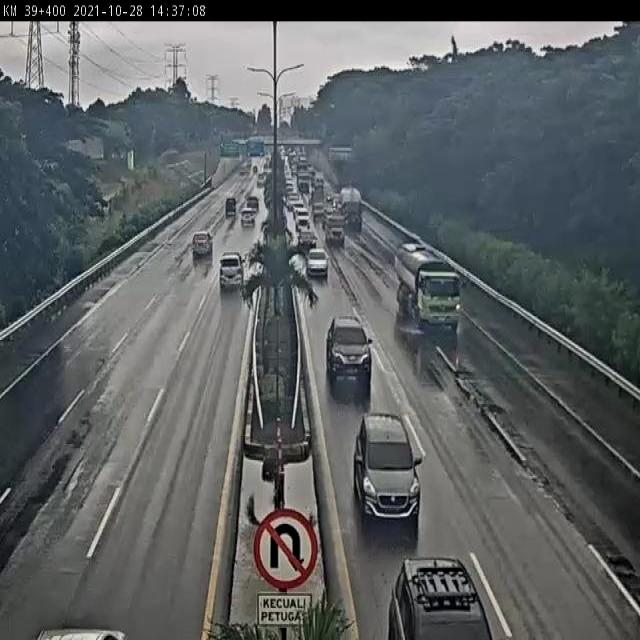Car: (385, 554, 495, 638), (352, 413, 424, 525), (325, 315, 373, 384), (219, 251, 245, 289), (306, 248, 329, 278), (192, 232, 213, 258), (297, 226, 316, 250), (293, 207, 312, 229), (240, 208, 256, 227), (246, 195, 258, 212)
Truck: (393, 242, 468, 335), (339, 182, 364, 230), (325, 213, 347, 246), (311, 190, 327, 222), (296, 172, 310, 192), (313, 170, 324, 189)
